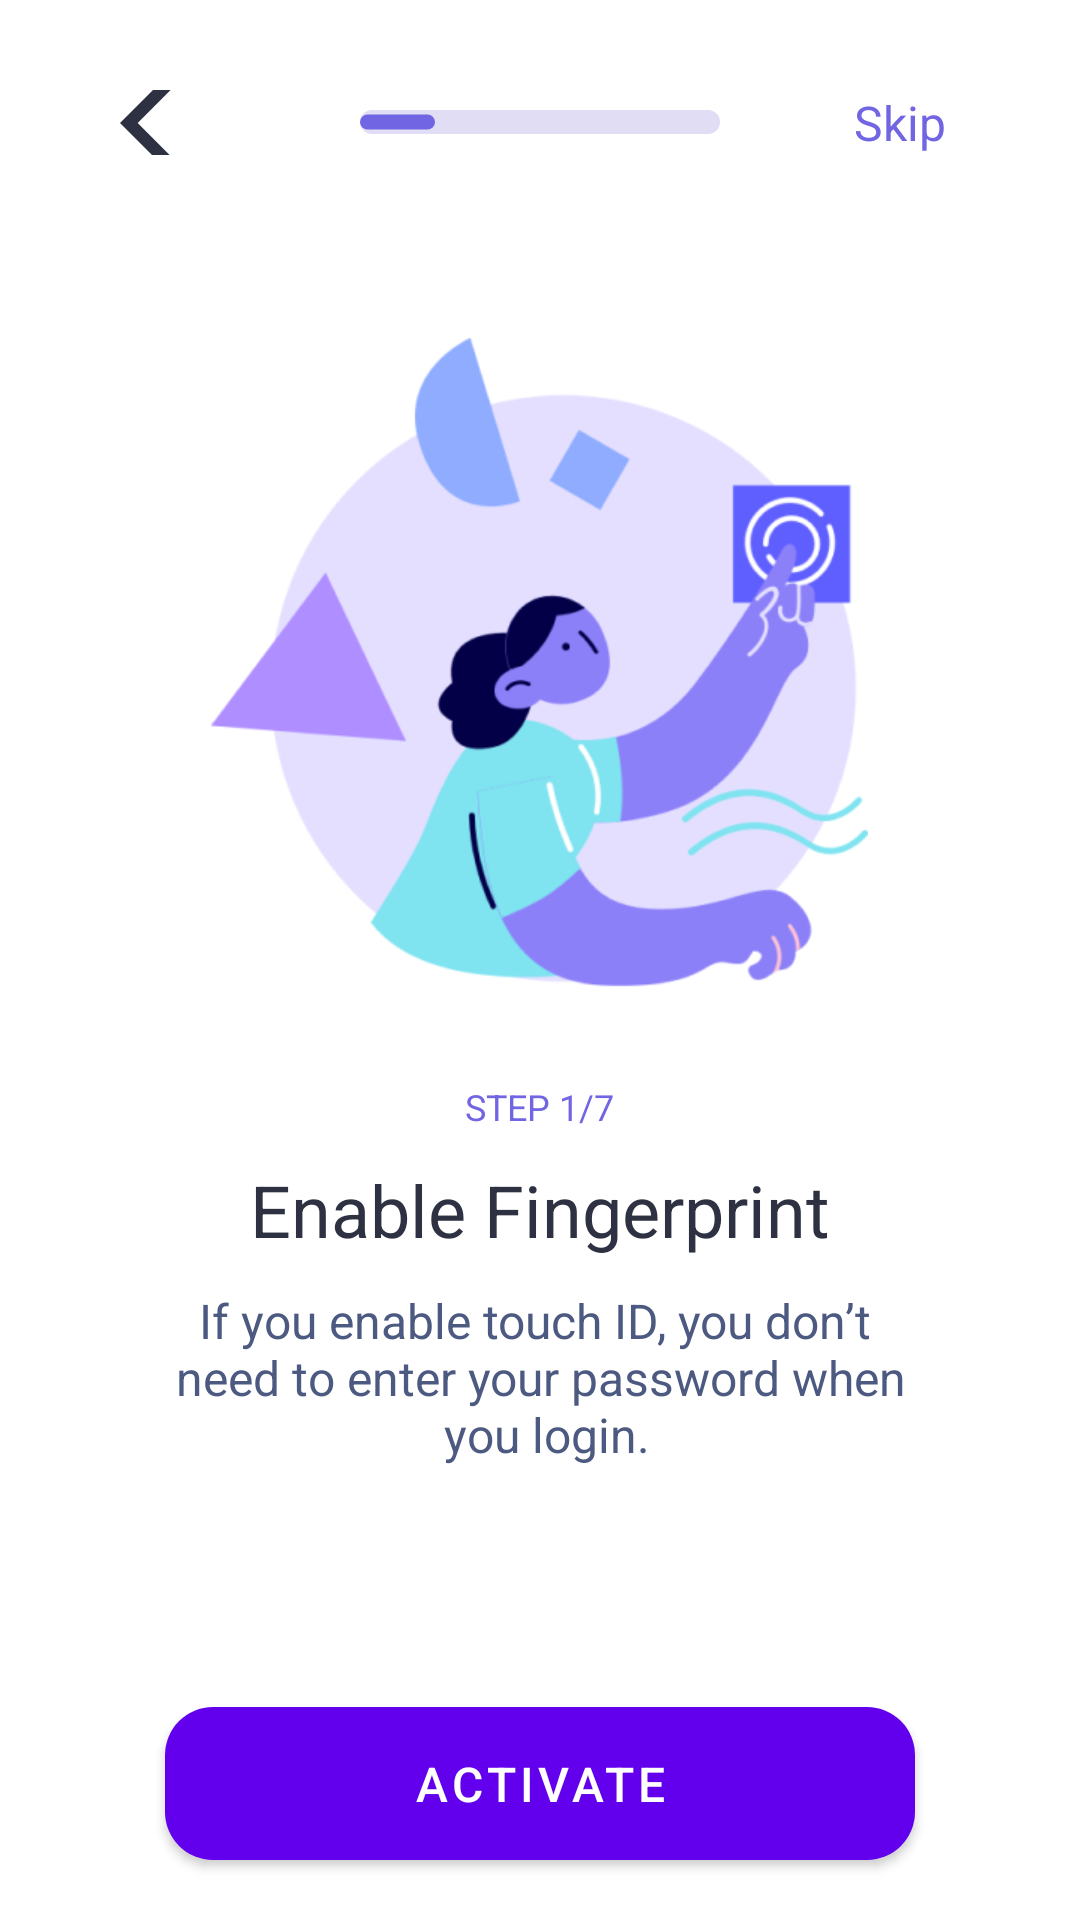

Icon click points for this 1080*1920 phone screenshot, format (x=x, y=y):
back: (x=145, y=122)
